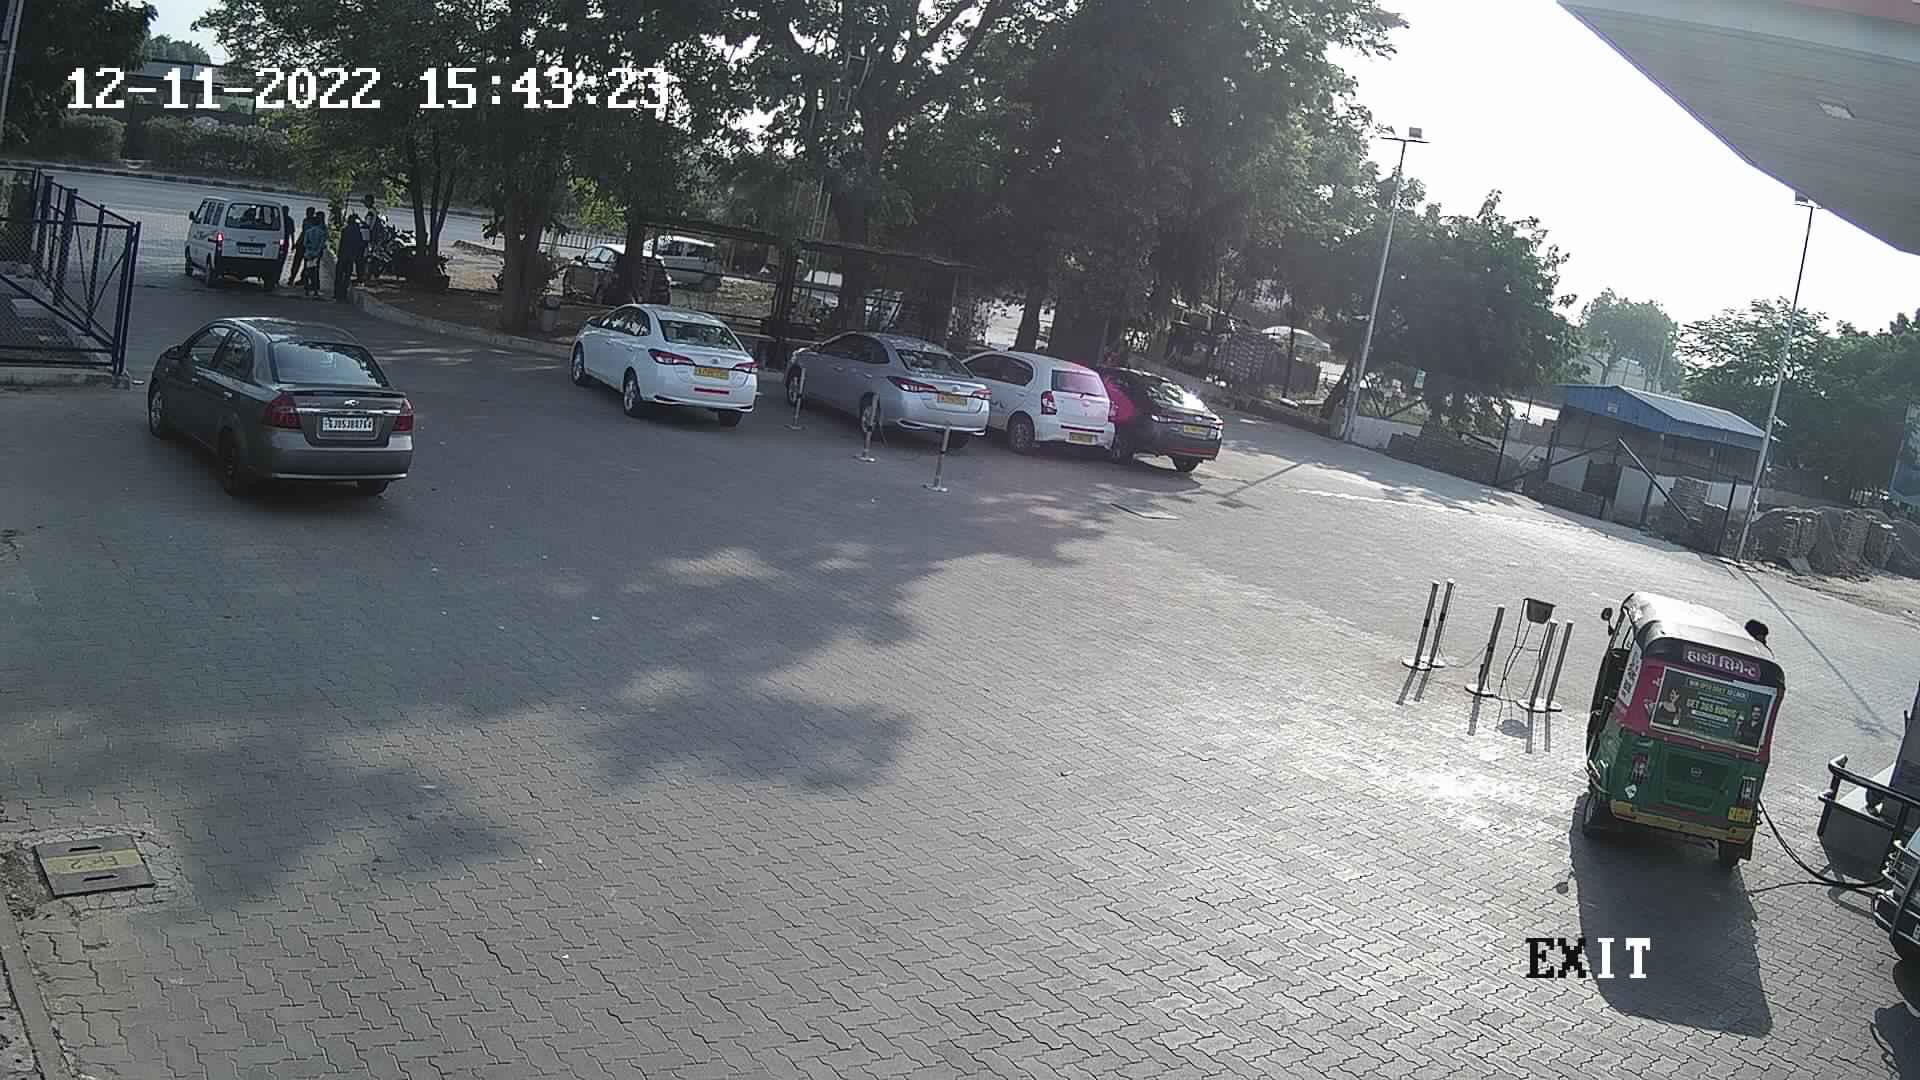Auto: (1559, 580, 1799, 872), (1859, 742, 1917, 1034)
Car: (129, 289, 433, 508), (560, 286, 774, 434), (767, 318, 1000, 450), (951, 334, 1121, 460), (167, 179, 340, 291), (1087, 356, 1230, 481), (549, 233, 629, 311), (644, 229, 735, 295)
